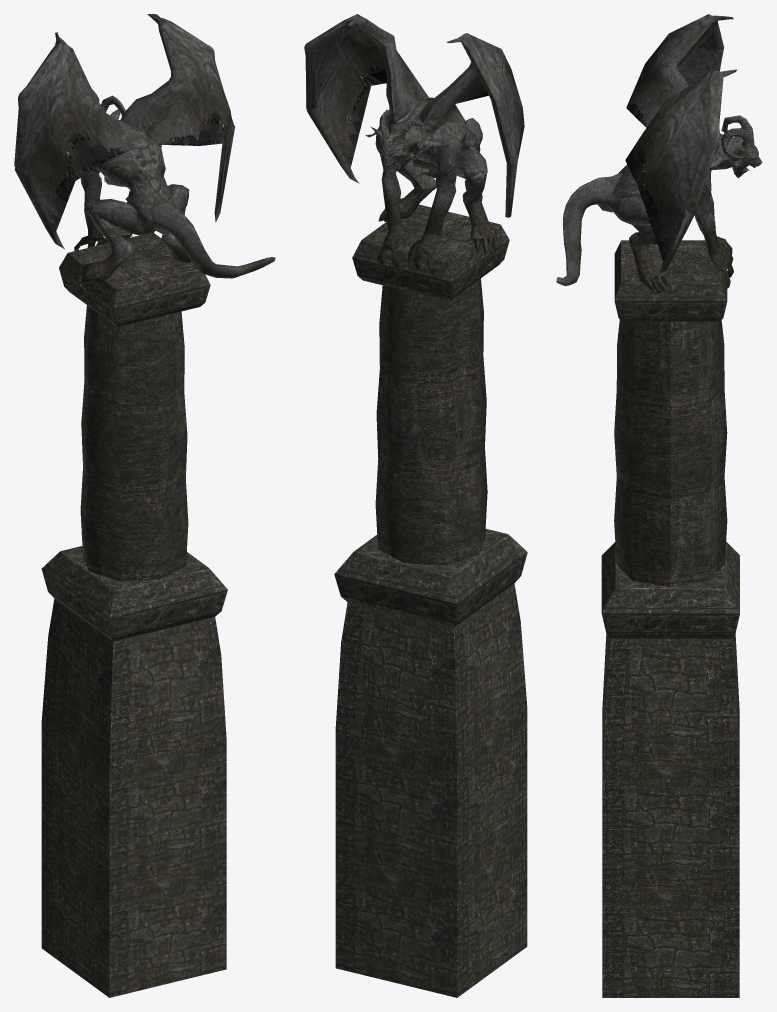
The model's file is eso_gu6_DevilStatue2-transformed.glb.
3 renders of one model, left to right at view 1: azimuth 30°, elevation 25°; view 2: azimuth 150°, elevation 25°; view 3: azimuth 270°, elevation 25°, orthographic. The views are drawn at different scales.
Parts seen in each view (by area): view 1: default; view 2: default; view 3: default.
Boxes of the visible parts, box(x1,y1,x2,y2) form: default: box(14, 14, 275, 997); default: box(304, 14, 527, 997); default: box(556, 14, 762, 997).
Bounding box in the file's own units: 3.02 × 12.56 × 2.53.
Materials: 1 (1 with a texture image).
